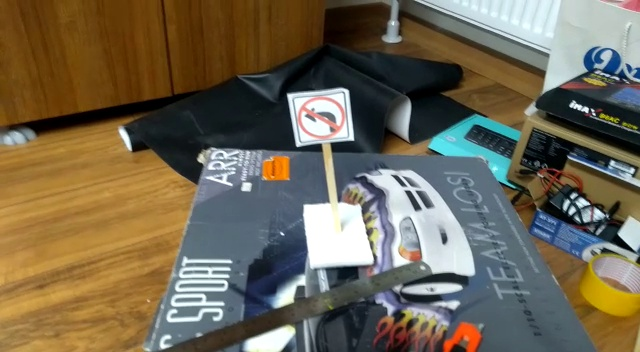sola_donulmez: (292, 93, 350, 139)
